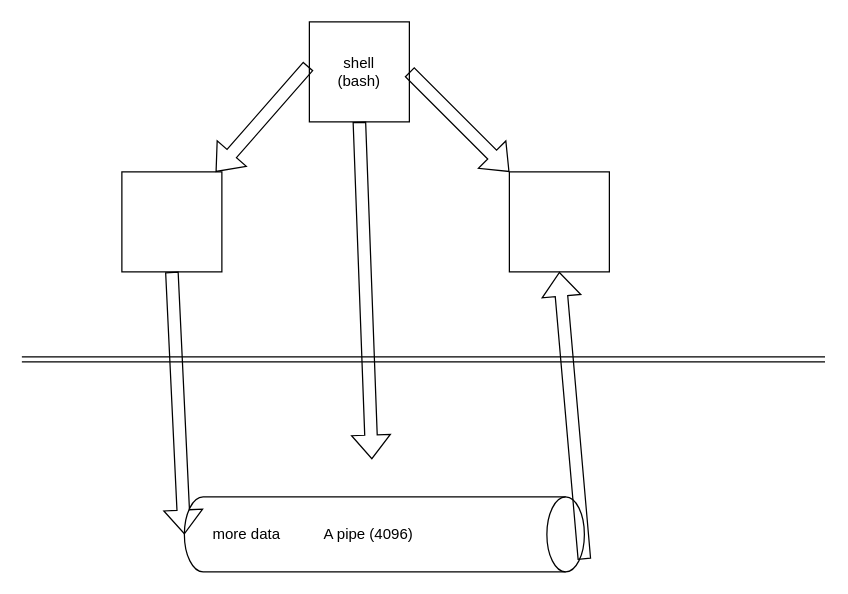
The diagram is 848 pixels wide and 594 high, and some of its shapes have lost their labels. Here are the shapes that lost their labels. From the top down, the centre of each, then its label:
At point 171,221: "ls -l".
At point 558,221: "wc -l".
